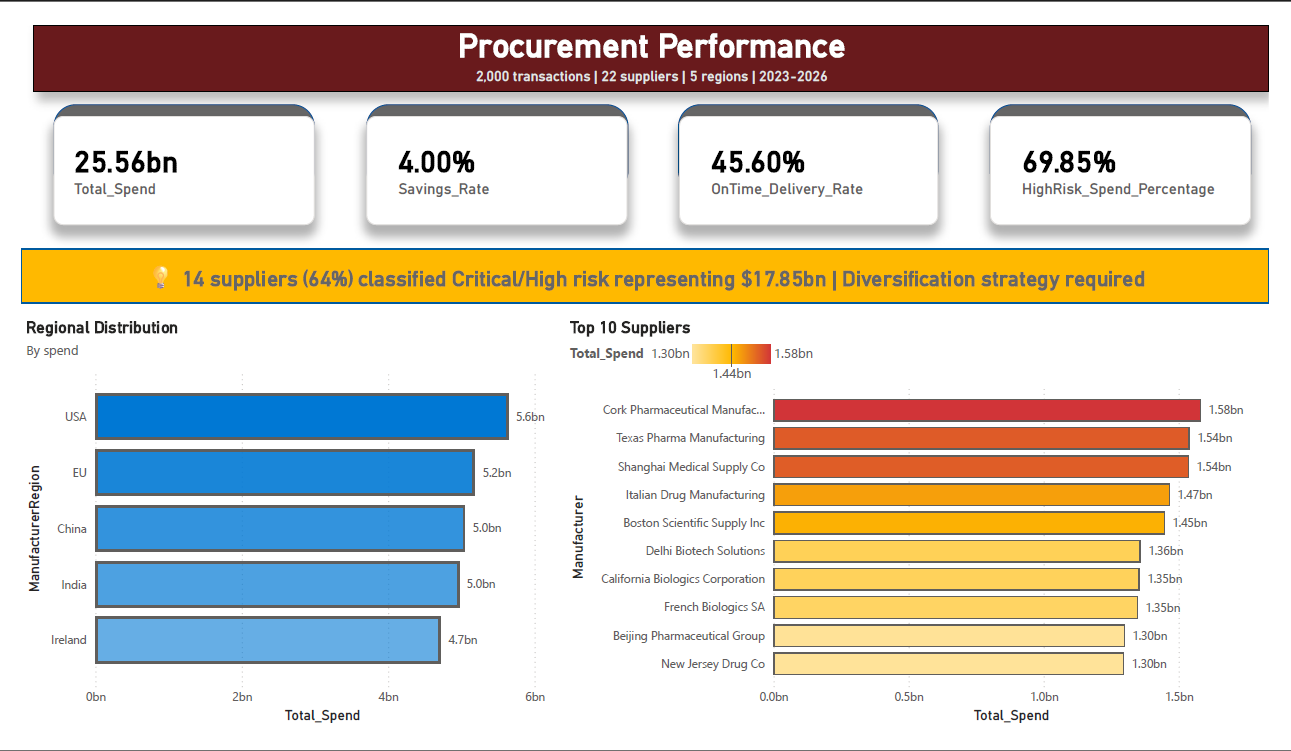

Layout of this report page (visuals, bound fields, positions):
{"tool":"powerbi","page":{"name":"Executive Overview","canvas":[1280,720],"ordinal":0},"visuals":[{"type":"shape","box":[993.9,81.2,268.3,92.8],"z":0},{"type":"shape","box":[674.2,81.2,266.7,91.1],"z":1000},{"type":"shape","box":[33.1,81.2,268.3,91.1],"z":2000},{"type":"shape","box":[354.5,81.2,268.3,91.1],"z":3000},{"type":"textbox","title":"Procurement Performance","box":[11.6,0,1268.9,67.9],"z":4000},{"type":"cardVisual","fields":{"Data":["monthly_procurement_summary.Savings_Rate"]},"box":[353.9,92.8,268.3,112.6],"z":5000},{"type":"cardVisual","fields":{"Data":["monthly_procurement_summary.Total_Spend"]},"box":[33.1,92.8,268.3,112.6],"z":6000},{"type":"cardVisual","fields":{"Data":["monthly_procurement_summary.OnTime_Delivery_Rate"]},"box":[674.7,92.8,266.7,112.6],"z":7000},{"type":"cardVisual","fields":{"Data":["monthly_procurement_summary.HighRisk_Spend_Percentage"]},"box":[993.9,92.8,268.3,112.6],"z":8000},{"type":"shape","box":[0,228.6,1280.5,56.3],"z":9000},{"type":"clusteredBarChart","title":"Regional Distribution","fields":{"Category":["pharmaceutical_supply_chain_data.ManufacturerRegion"],"Y":["monthly_procurement_summary.Total_Spend"]},"box":[0,299.8,558.2,420.7],"z":10000},{"type":"clusteredBarChart","title":"Top 10 Suppliers","fields":{"Category":["pharmaceutical_supply_chain_data.Manufacturer"],"Y":["monthly_procurement_summary.Total_Spend"]},"box":[558.2,299.8,722.2,420.7],"z":11000}]}

Visuals, with their boxes on the page's 1280x720 design canvas (x1, y1, x2, y2). These are canvas units, not pixel positions in the 1291x751 screenshot, which may show the page scaled, cropped or inside an application window:
shape: (left=994, top=81, right=1262, bottom=174)
shape: (left=674, top=81, right=941, bottom=172)
shape: (left=33, top=81, right=301, bottom=172)
shape: (left=354, top=81, right=623, bottom=172)
"Procurement Performance" textbox: (left=12, top=0, right=1280, bottom=68)
cardVisual - monthly_procurement_summary.Savings_Rate: (left=354, top=93, right=622, bottom=205)
cardVisual - monthly_procurement_summary.Total_Spend: (left=33, top=93, right=301, bottom=205)
cardVisual - monthly_procurement_summary.OnTime_Delivery_Rate: (left=675, top=93, right=941, bottom=205)
cardVisual - monthly_procurement_summary.HighRisk_Spend_Percentage: (left=994, top=93, right=1262, bottom=205)
shape: (left=0, top=229, right=1280, bottom=285)
"Regional Distribution" clusteredBarChart: (left=0, top=300, right=558, bottom=720)
"Top 10 Suppliers" clusteredBarChart: (left=558, top=300, right=1280, bottom=720)
